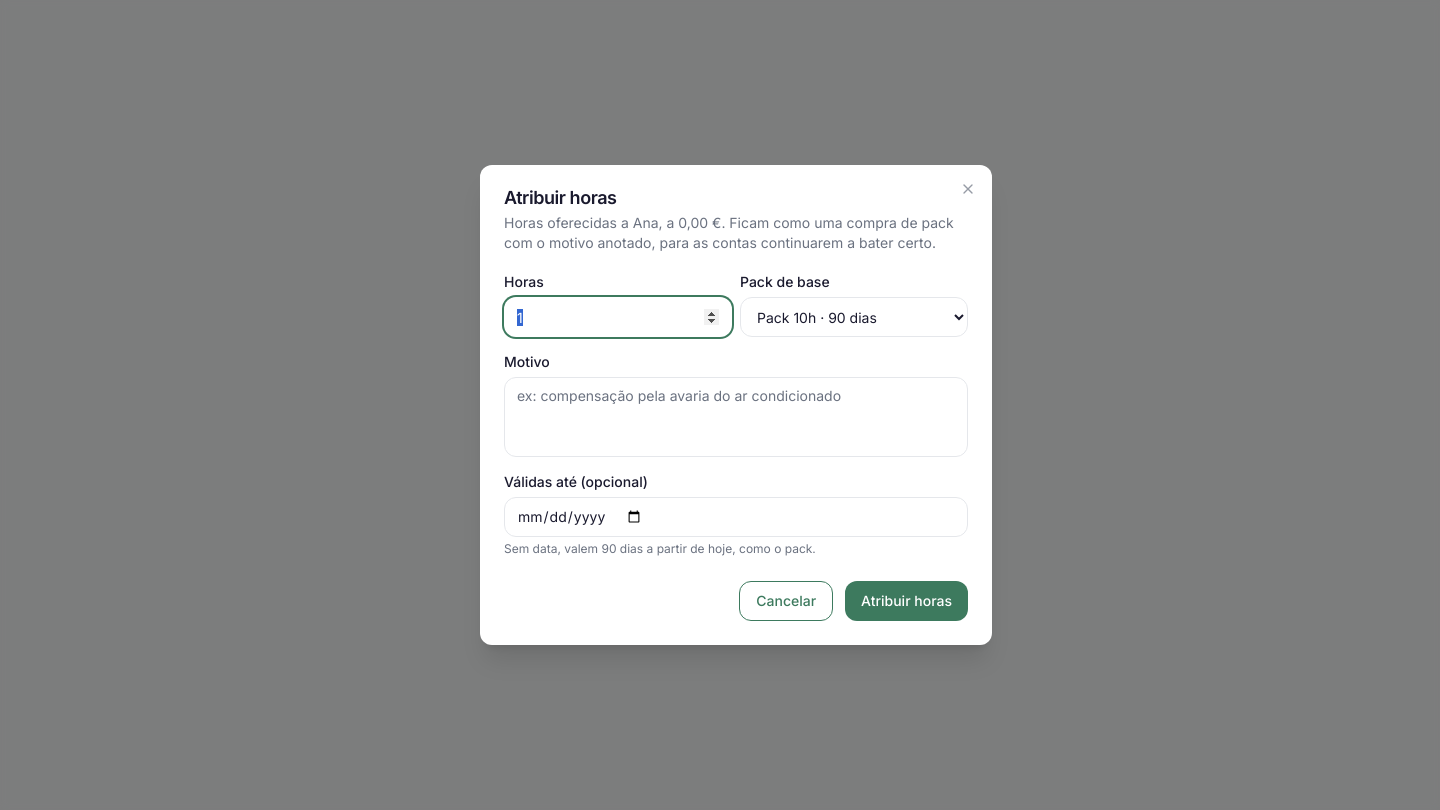
Test: GrantHoursDialog › refuses without a reason and with zero hours, and never submits
Click the button "Atribuir horas".
click(907, 601)  # box [845,581,968,621]
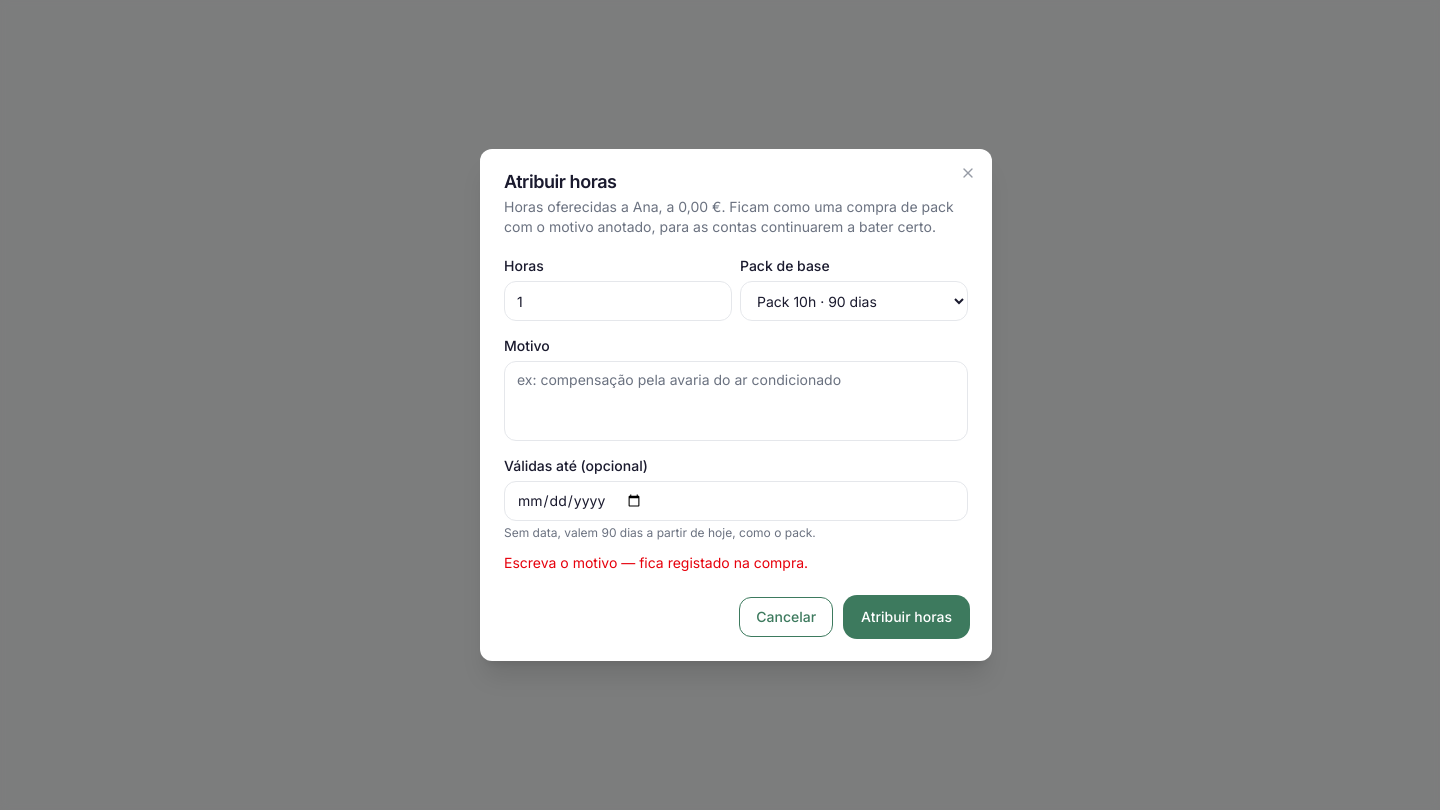
Expected: the message shows "Escreva o motivo", [504,554,808,571]
Type "ok então" into the text box labelled "Motivo".
click(736, 401); type("ok então")  # box [504,361,968,441]
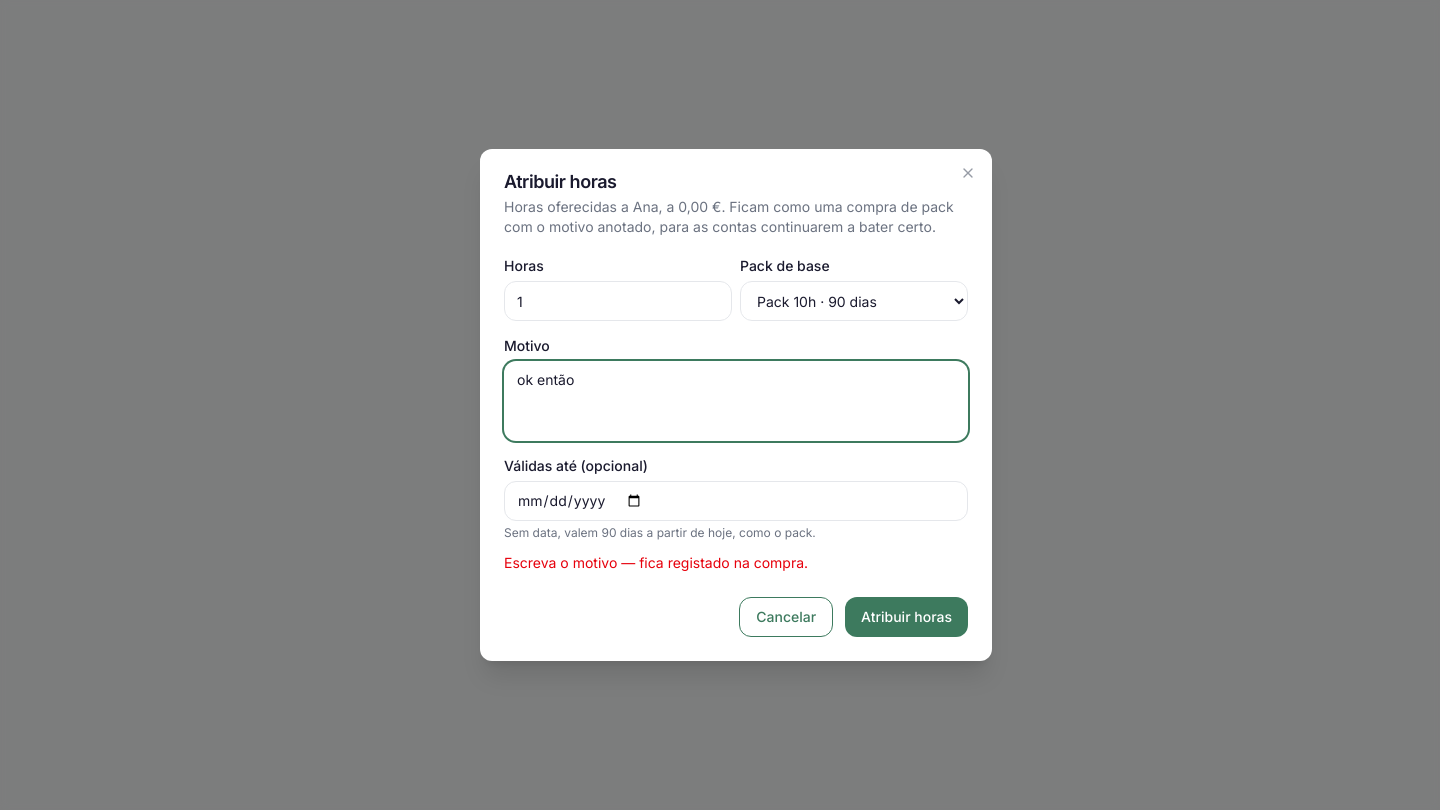
Replace the text in the number field labelled "Horas" with "0" at coordinates (618, 301), box [504,281,732,321]
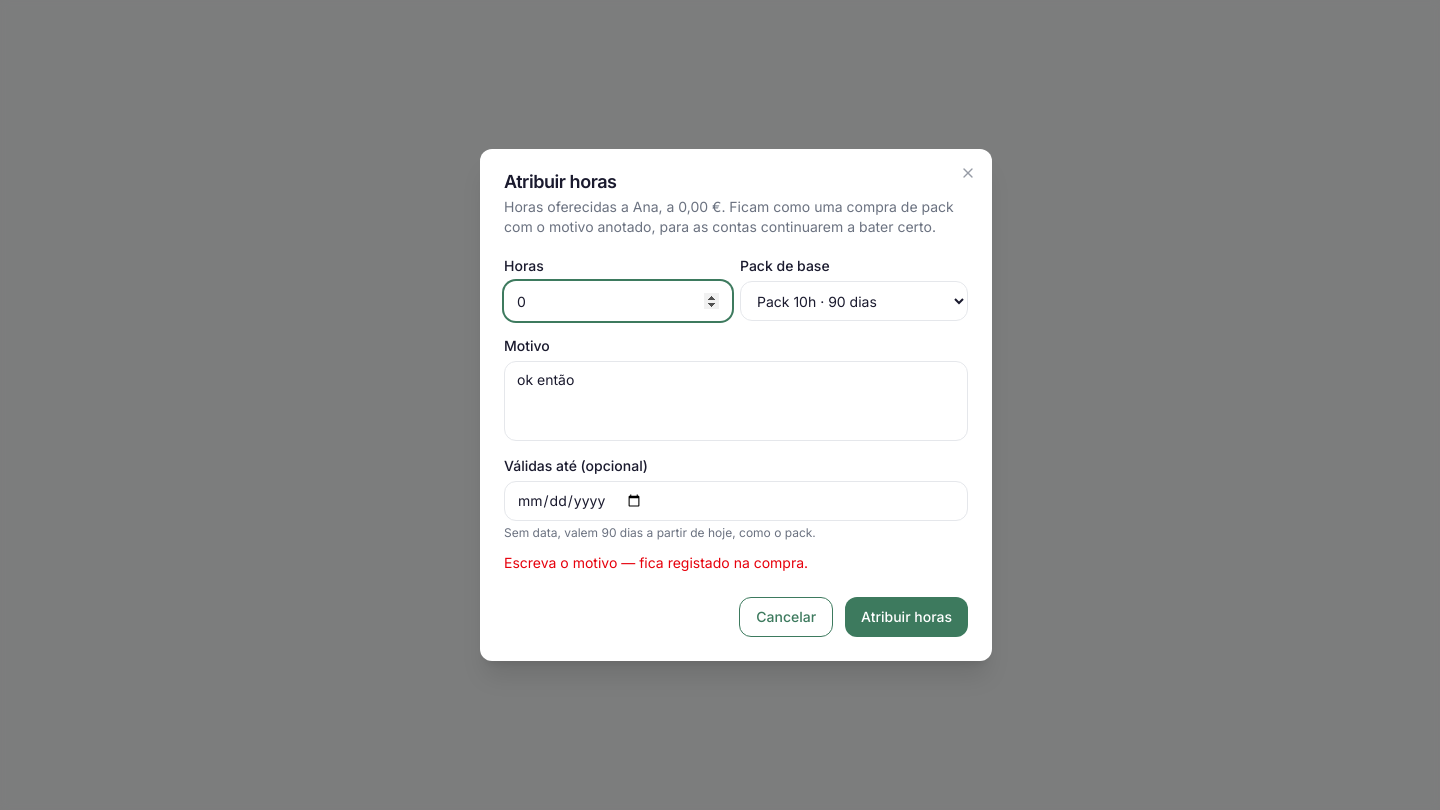
Click the button "Atribuir horas".
click(907, 617)  # box [845,597,968,637]
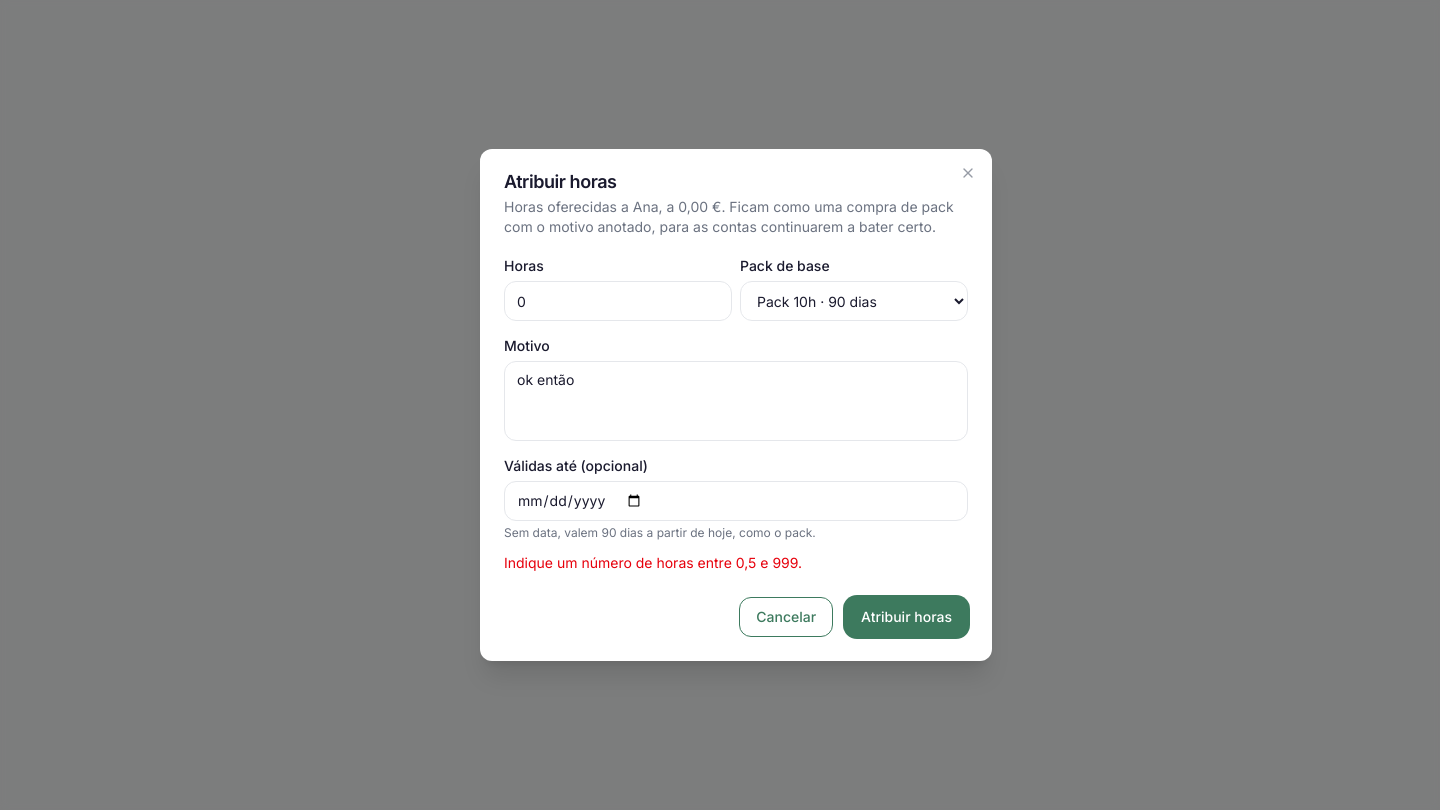
Expected: the message shows "entre 0,5 e 999", [504,554,802,571]
